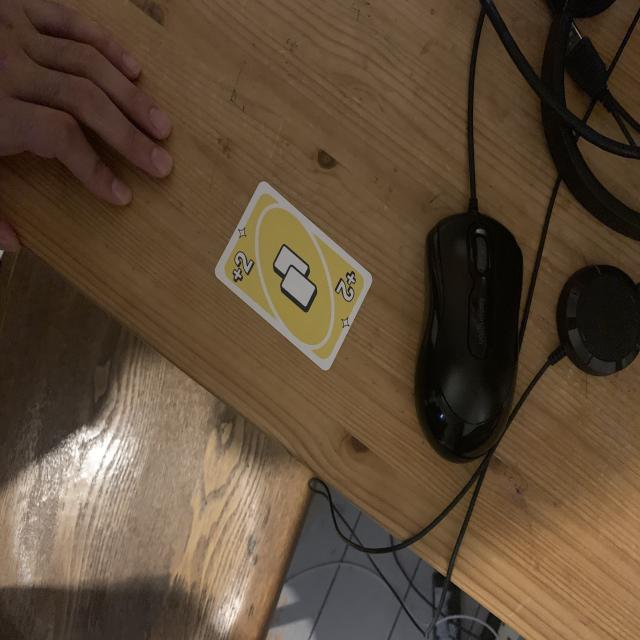lyellow-20: (226, 242, 262, 289)
